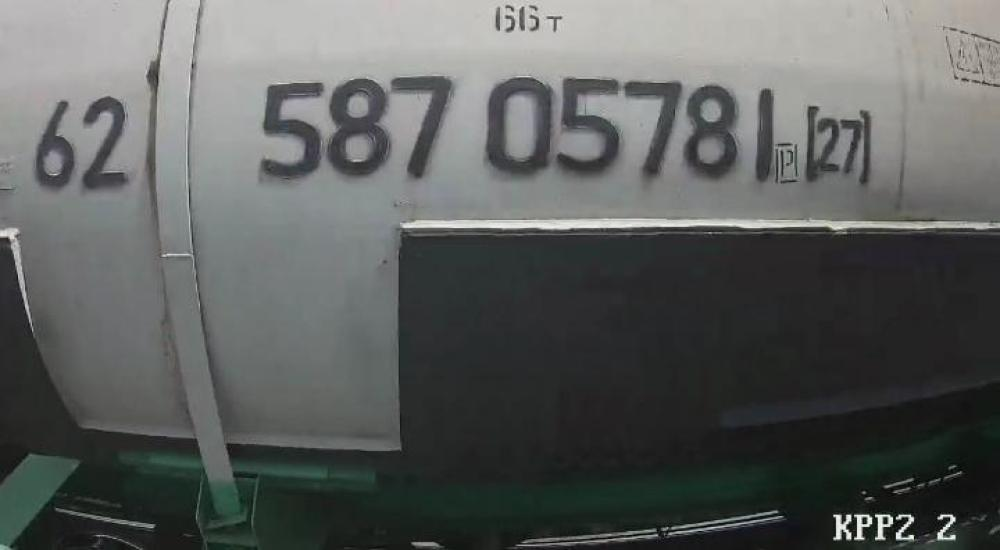Wagon-number: (252, 70, 780, 183)
